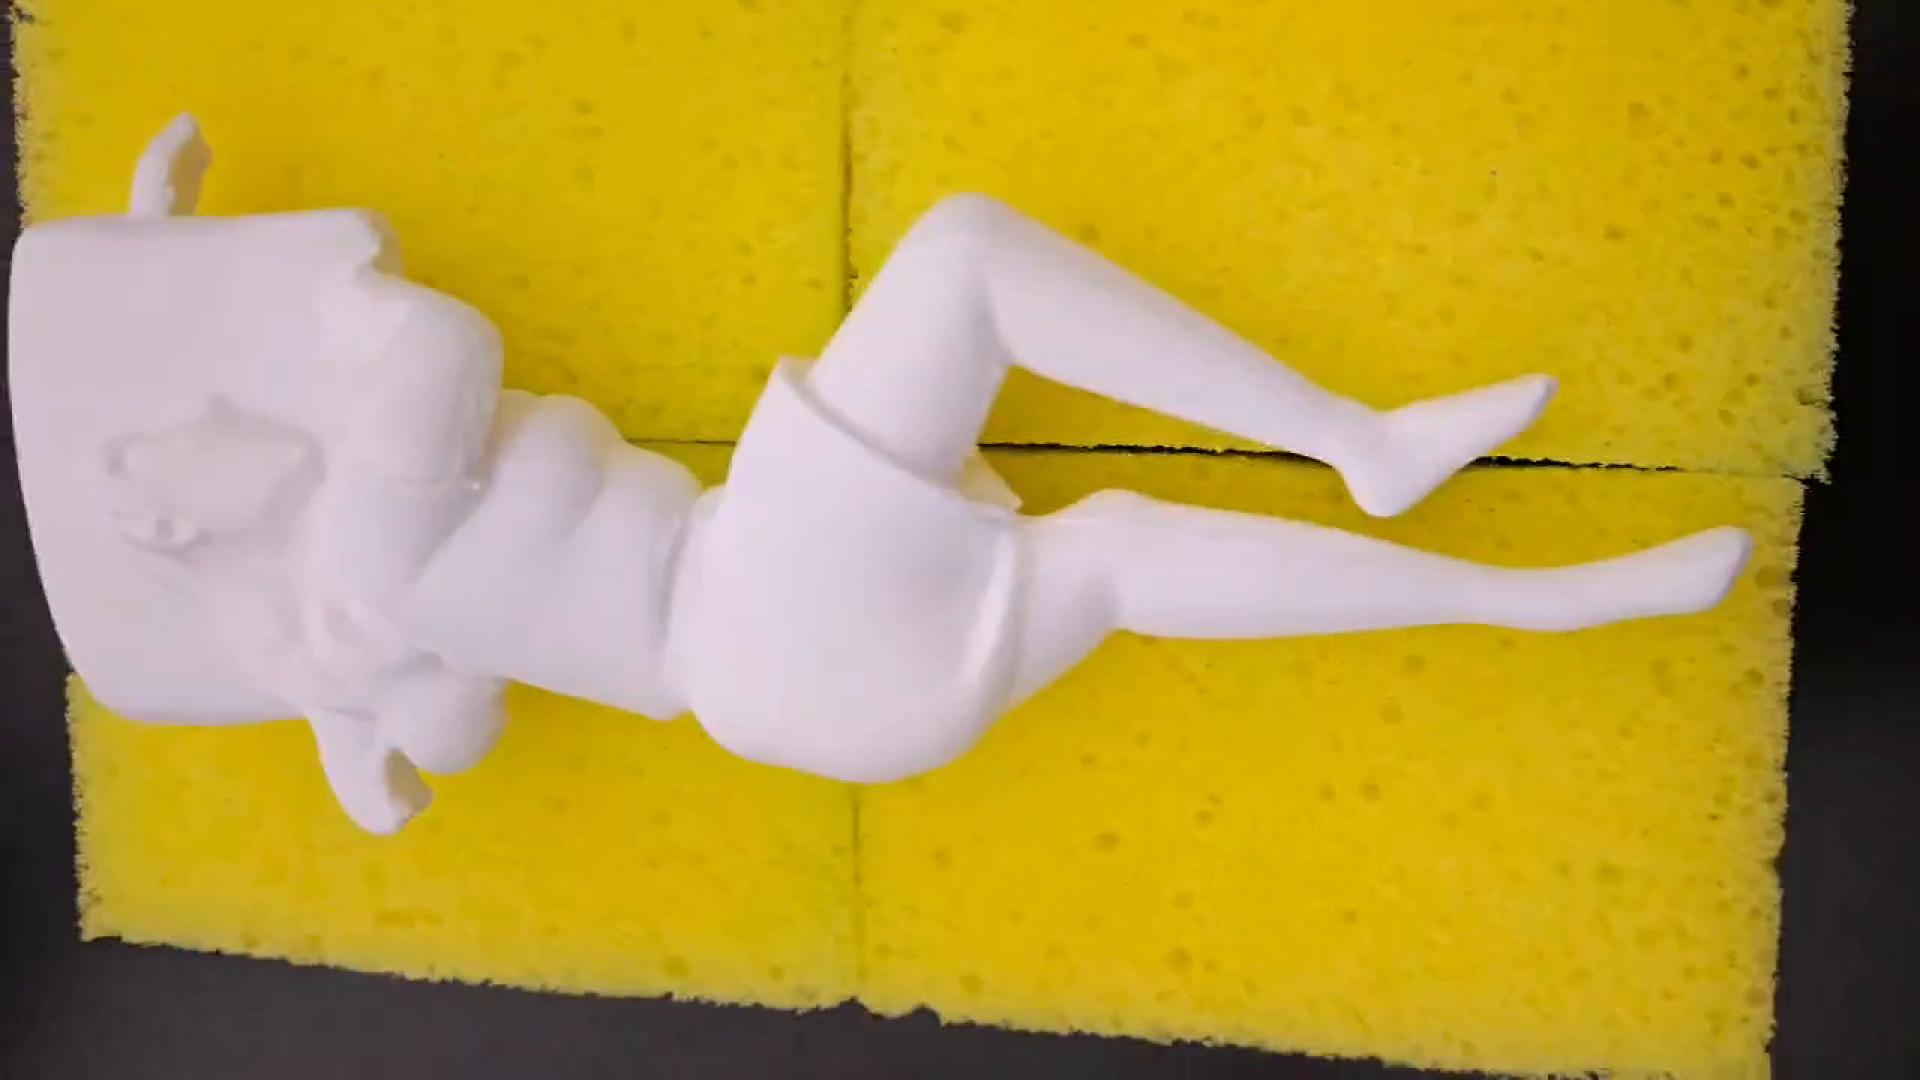Good-style: (5, 116, 1787, 856)
